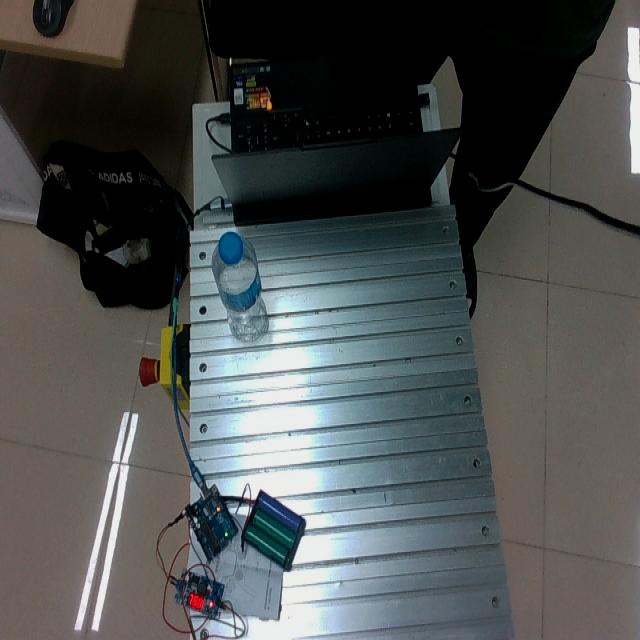lavie: (211, 232, 268, 343)
